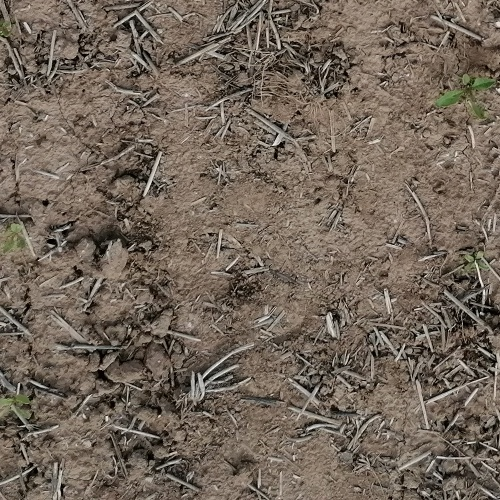beet: (435, 73, 496, 120), (6, 224, 25, 255), (0, 392, 31, 408)
